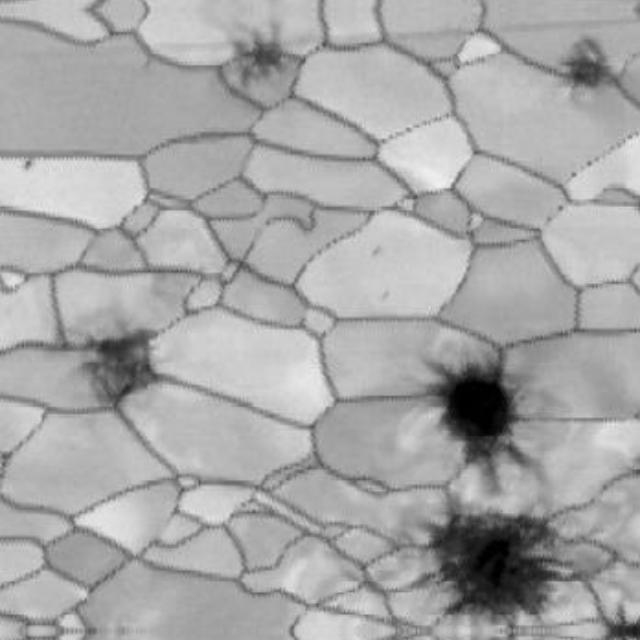good_void: (391, 476, 578, 639), (420, 335, 543, 500), (75, 322, 167, 412), (542, 26, 626, 111), (224, 16, 303, 93), (18, 152, 40, 175), (376, 286, 396, 302), (367, 242, 385, 259)
